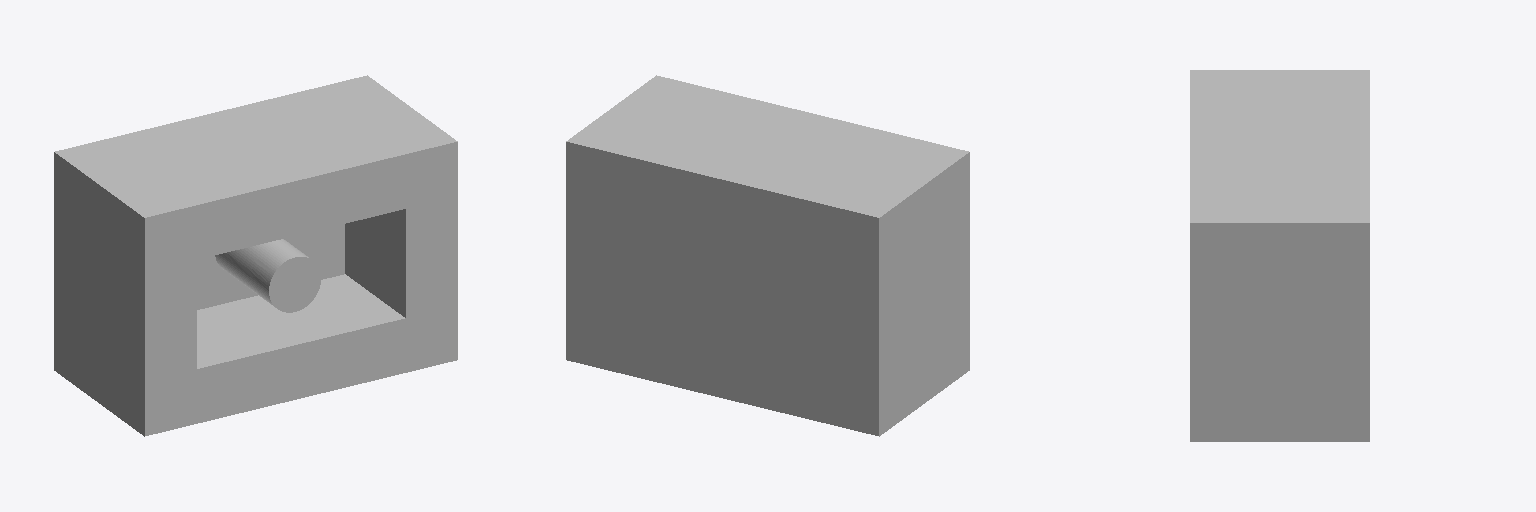
Rendered from tank7.obj.
The picture shows the model from 3 angles: view 1: azimuth 30°, elevation 25°; view 2: azimuth 150°, elevation 25°; view 3: azimuth 270°, elevation 25°; orthographic projection.
Bounding box in the file's own units: 3 × 2 × 1.5.